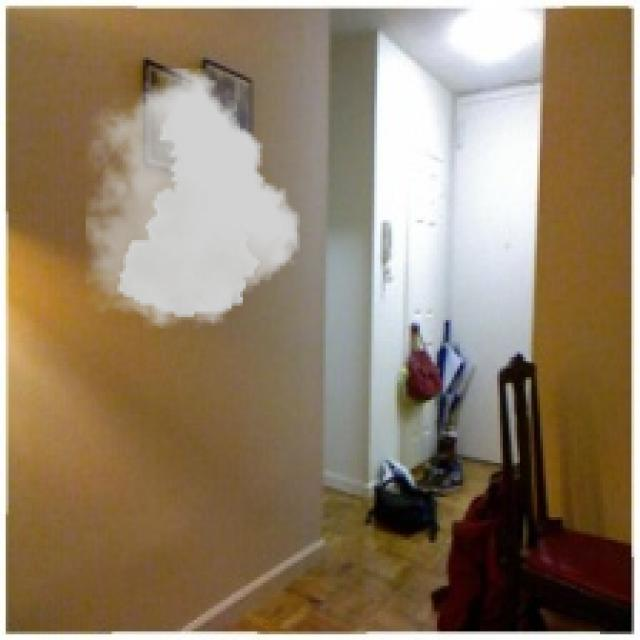smoke: (86, 69, 300, 328)
